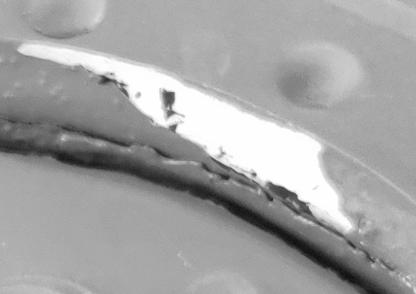paint-off: (1, 1, 416, 294)
